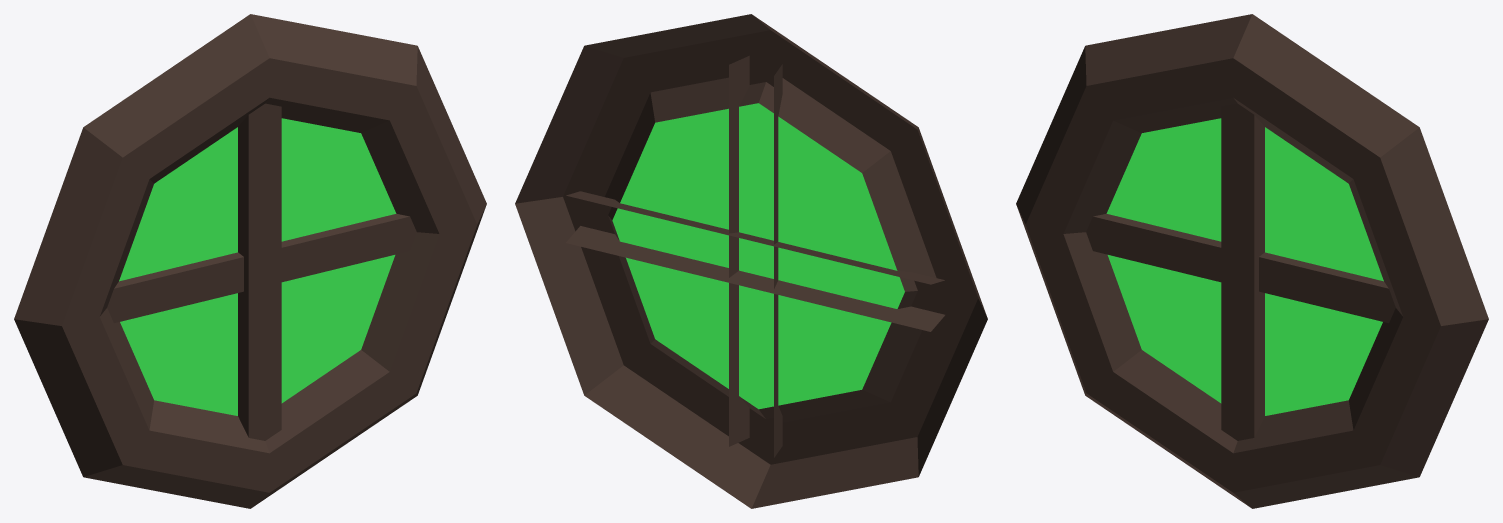
The model's file is LPHorror_RoundWindow.fbx.
The picture shows the model from 3 angles, left to right: view 1: azimuth 30°, elevation 25°; view 2: azimuth 150°, elevation 25°; view 3: azimuth 330°, elevation 25°; orthographic projection.
Visible parts, largest first — view 1: RoundWindow; view 2: RoundWindow; view 3: RoundWindow.
Boxes of the visible parts, left/top/right/bottom form: RoundWindow: left=14, top=14, right=486, bottom=508; RoundWindow: left=515, top=14, right=987, bottom=508; RoundWindow: left=1016, top=14, right=1488, bottom=508.
Size of the model in its own units: 107 by 107 by 8.77.
